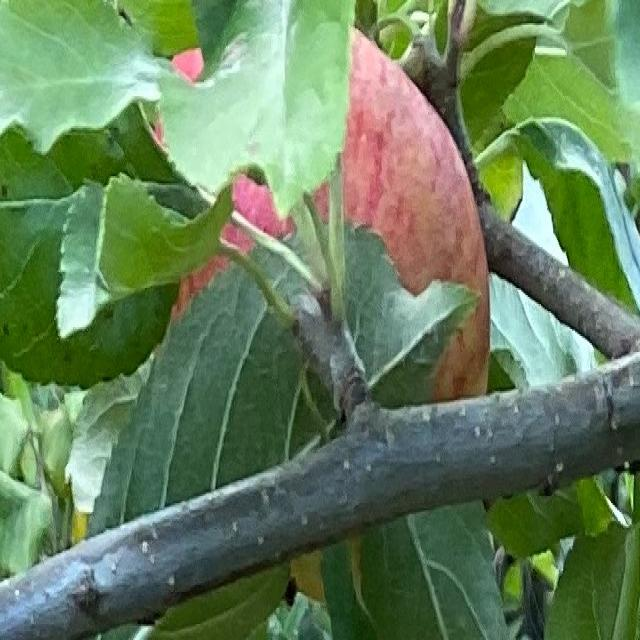100-_ripeness: (153, 26, 490, 396)
